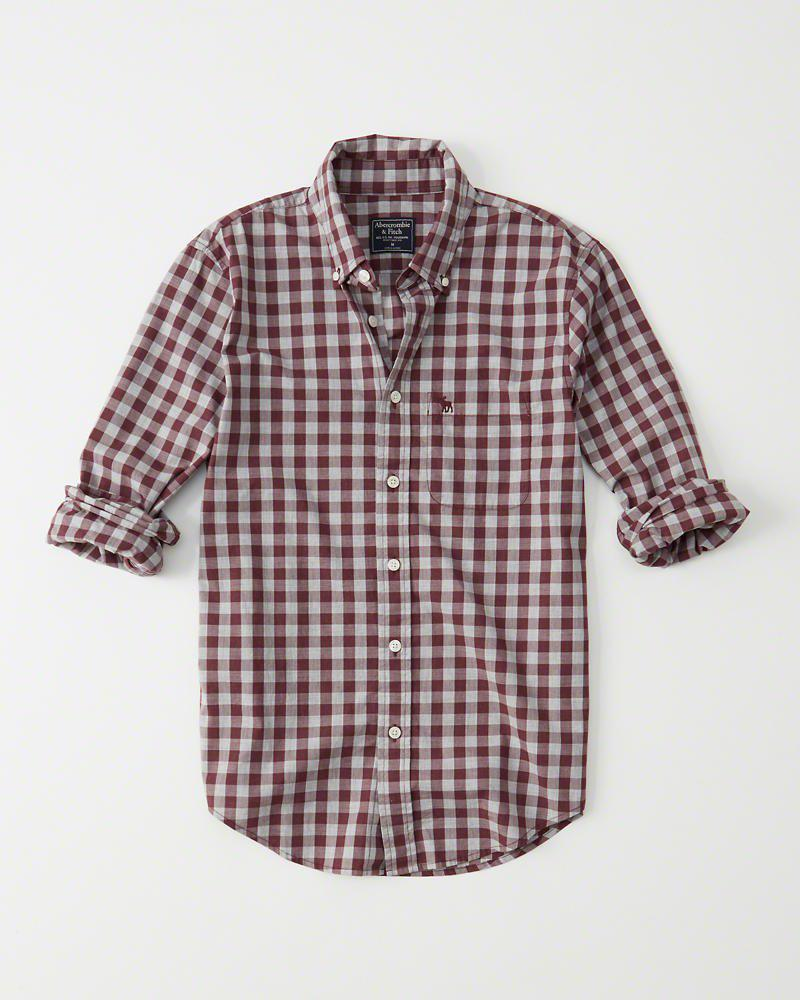teeshirt: (59, 136, 749, 886)
